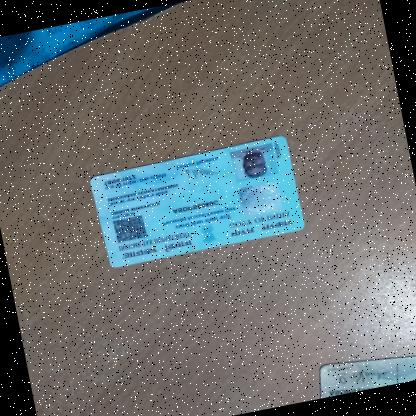pan_card: (84, 130, 310, 282)
